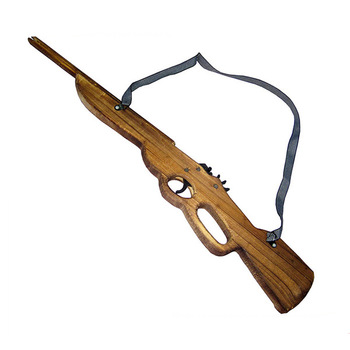Arma Falsa: (27, 33, 318, 315)
